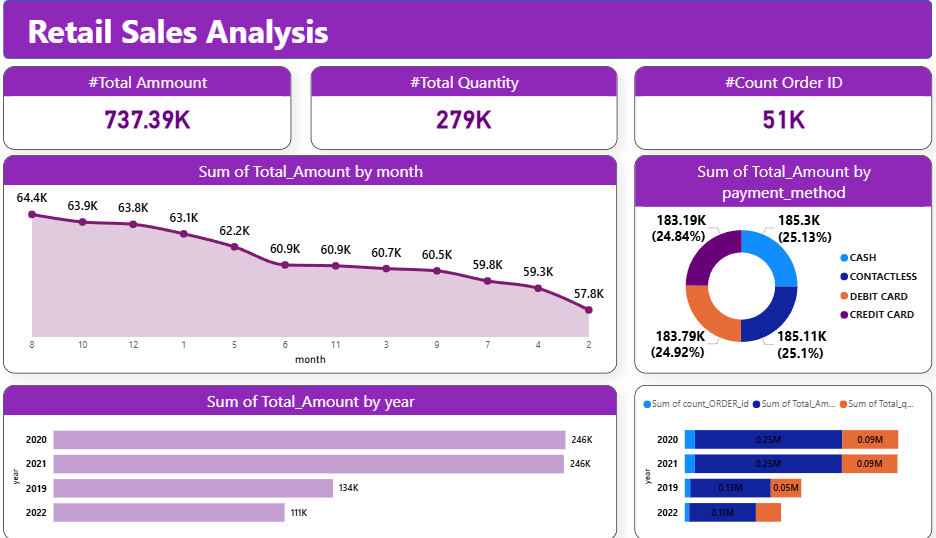

The page's visual inventory and layout, read from the dashboard file:
{"tool":"powerbi","page":{"name":"Page 1","canvas":[1280,720],"ordinal":0},"visuals":[{"type":"cardVisual","title":"#Total Ammount","fields":{"Data":["Sum(gold vu_kpis.Total_Amount)"]},"box":[15.7,88.6,384.3,111.4],"z":0},{"type":"cardVisual","title":"#Total Quantity","fields":{"Data":["Sum(gold vu_kpis.Total_quantity)"]},"box":[425.7,88.6,408.6,111.4],"z":1000},{"type":"cardVisual","title":"#Count Order ID","fields":{"Data":["Sum(gold vu_kpis.count_ORDER_id)"]},"box":[857.1,88.6,397.1,111.4],"z":2000},{"type":"shape","box":[15.7,0,1238.6,78.6],"z":4000},{"type":"areaChart","fields":{"Category":["gold vw_monthlyrevenue.month"],"Y":["Sum(gold vw_monthlyrevenue.Total_Amount)"]},"box":[15.7,207.1,818.6,291.4],"z":4001},{"type":"donutChart","fields":{"Category":["gold vw_payment_distribution.payment_method"],"Y":["Sum(gold vw_payment_distribution.Total_Amount)"]},"box":[857.1,207.1,397.1,291.4],"z":4002},{"type":"barChart","fields":{"Category":["gold vu_RevenueByYear.year"],"Y":["Sum(gold vu_RevenueByYear.Total_Amount)"]},"box":[15.7,512.9,818.6,207.1],"z":4003},{"type":"barChart","fields":{"Category":["gold vu_RevenueByYear.year"],"Y":["Sum(gold vu_RevenueByYear.count_ORDER_id)","Sum(gold vu_RevenueByYear.Total_Amount)","Sum(gold vu_RevenueByYear.Total_quantity)"]},"box":[857.1,512.9,397.1,207.1],"z":4004}]}

Visuals, with their boxes in screenshot pixels (x1, y1, x2, y2), scaled from the page's 1280x720 canvas onto the 936x538 screenshot:
"#Total Ammount" cardVisual: (11, 66, 292, 149)
"#Total Quantity" cardVisual: (311, 66, 610, 149)
"#Count Order ID" cardVisual: (627, 66, 917, 149)
shape: (11, 0, 917, 59)
areaChart - gold vw_monthlyrevenue.month x Sum(gold vw_monthlyrevenue.Total_Amount): (11, 155, 610, 372)
donutChart - gold vw_payment_distribution.payment_method x Sum(gold vw_payment_distribution.Total_Amount): (627, 155, 917, 372)
barChart - gold vu_RevenueByYear.year x Sum(gold vu_RevenueByYear.Total_Amount): (11, 383, 610, 537)
barChart - gold vu_RevenueByYear.year x Sum(gold vu_RevenueByYear.count_ORDER_id): (627, 383, 917, 537)
